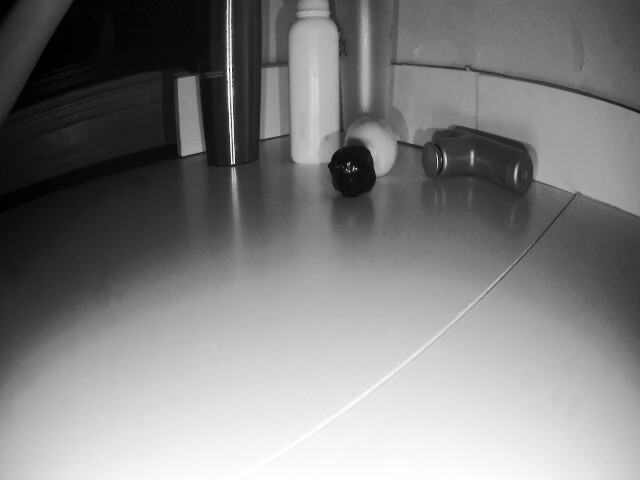black: (323, 141, 392, 209)
